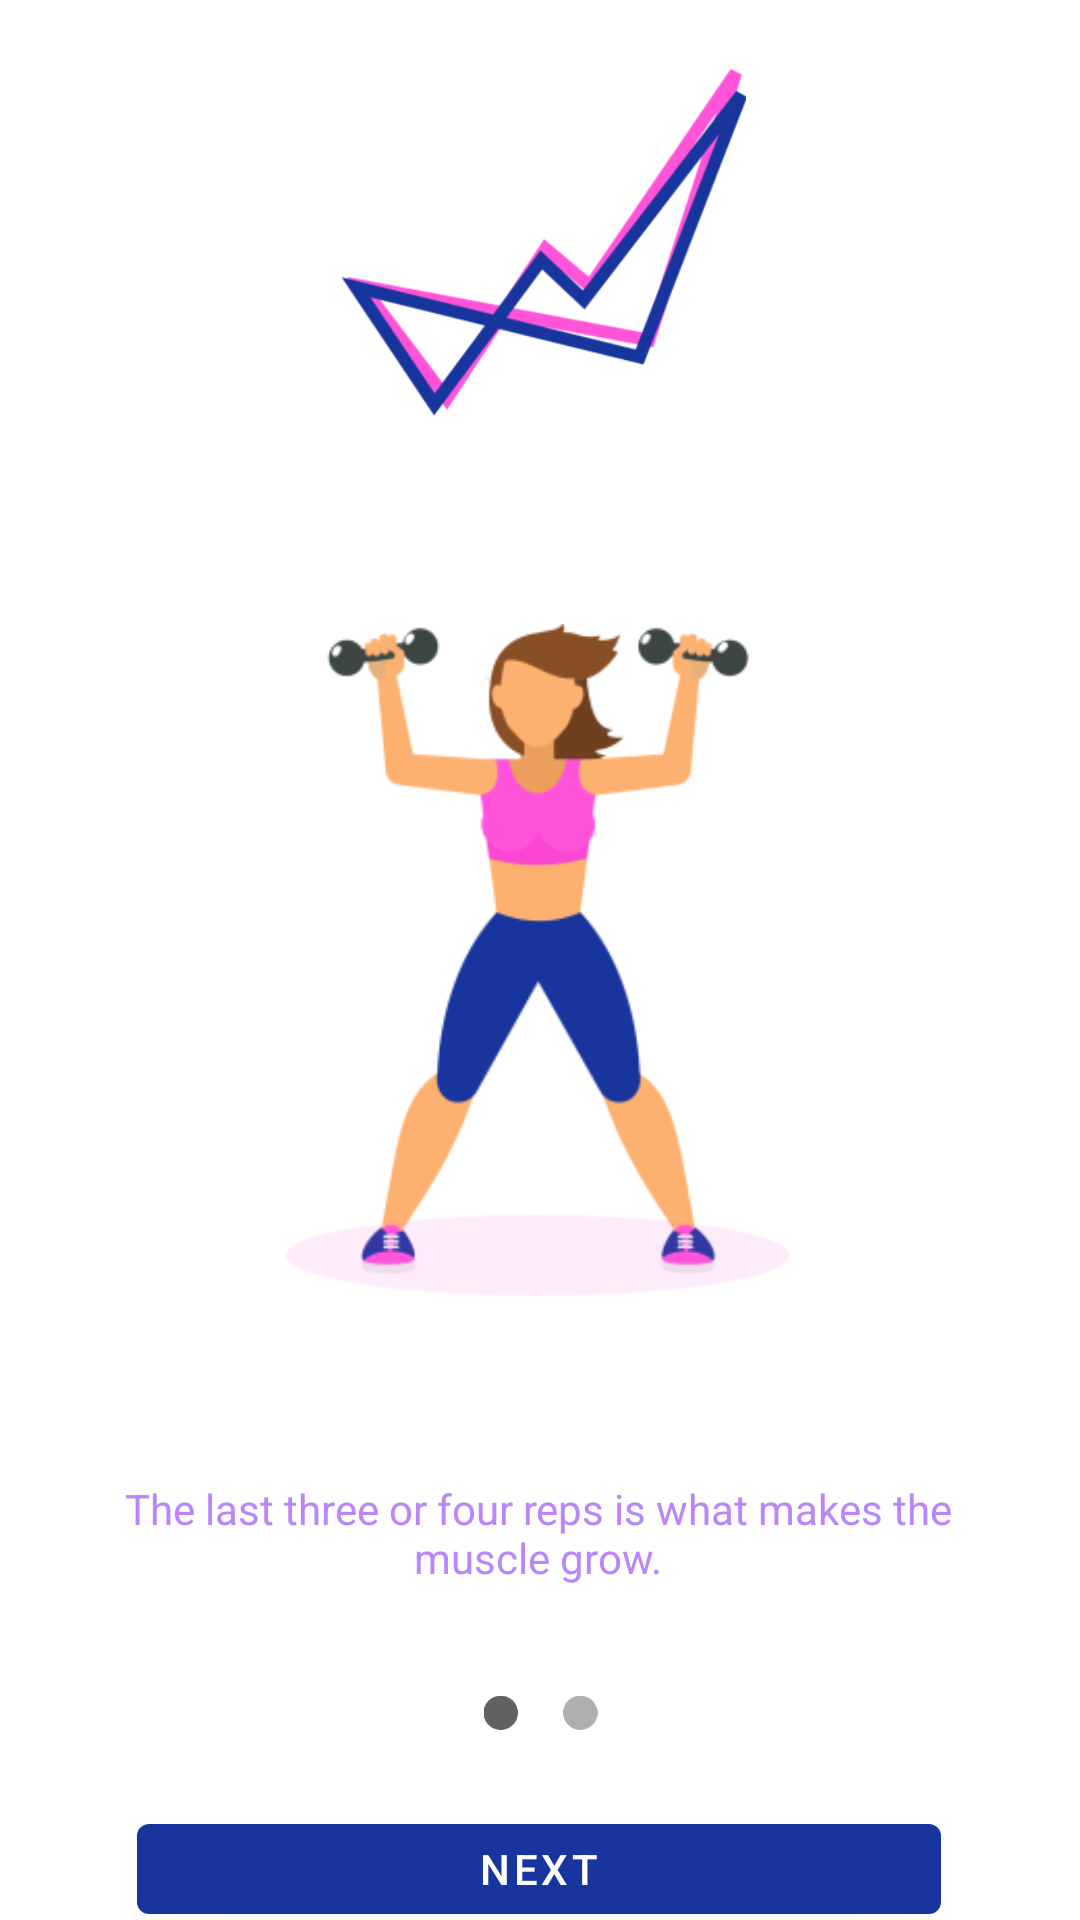

Where to tap for icons on this 1080w x 1920h app screen, as point (x, y):
twodot: point (541, 1713)
